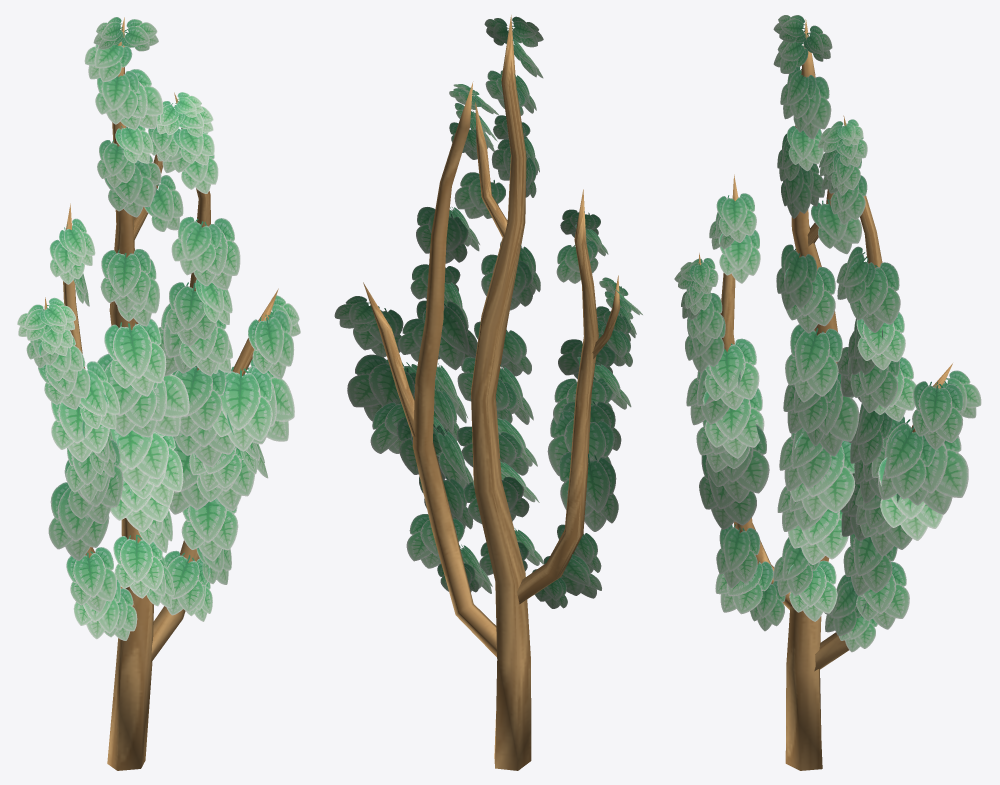
The model's file is SM_ENV_plant_ancient_10.fbx.
3 views of the same model, side by side, from view 1: azimuth 30°, elevation 25°; view 2: azimuth 150°, elevation 25°; view 3: azimuth 330°, elevation 25° (orthographic).
Visible parts, largest first — view 1: SM_ENV_plant_ancient_10_LOD0; view 2: SM_ENV_plant_ancient_10_LOD0; view 3: SM_ENV_plant_ancient_10_LOD0.
Part boxes in pixels (left/top/right/bottom): SM_ENV_plant_ancient_10_LOD0: left=17, top=17, right=300, bottom=770; SM_ENV_plant_ancient_10_LOD0: left=334, top=15, right=642, bottom=770; SM_ENV_plant_ancient_10_LOD0: left=674, top=15, right=981, bottom=770.
Size of the model in its own units: 79.91 by 192 by 24.81.
